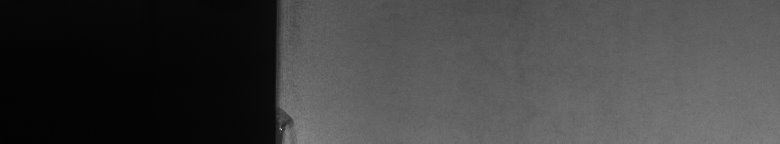hb: (284, 104, 303, 136)
